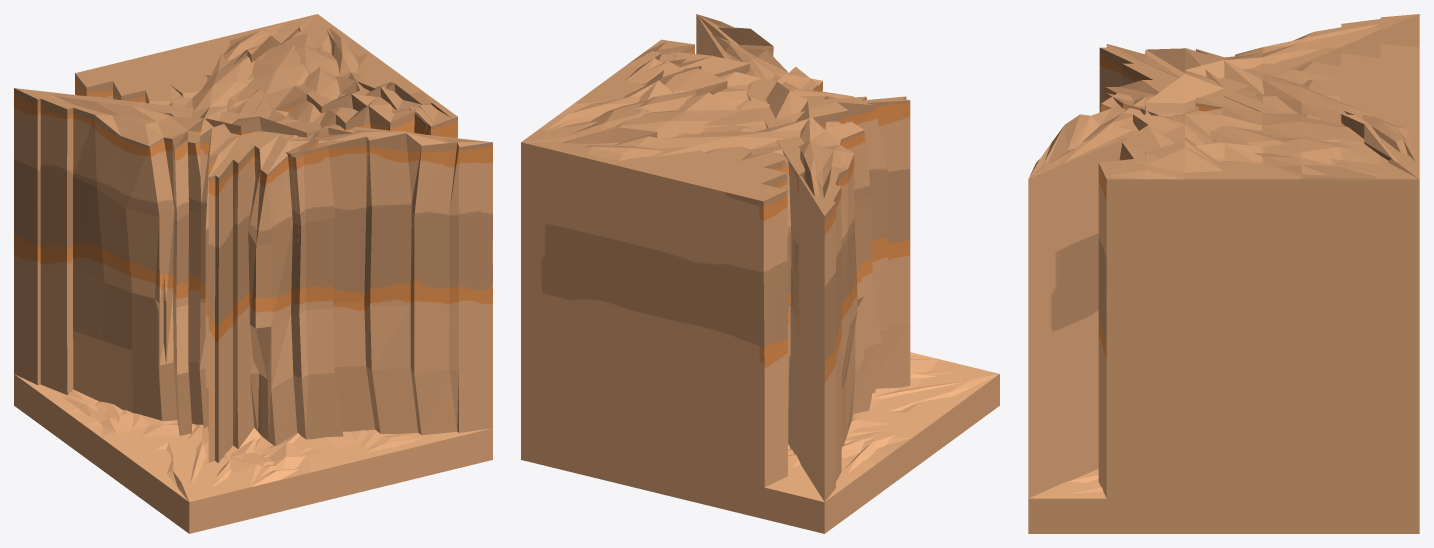
The model's file is cornerWithBlendShape.fbx.
3 views of the same model, side by side, from view 1: azimuth 30°, elevation 25°; view 2: azimuth 150°, elevation 25°; view 3: azimuth 270°, elevation 25° (orthographic). The views are drawn at different scales.
Visible parts, largest first — view 1: NØY, NØX, NVY, Corner, SØX, NVX, SVX, SØY; view 2: Corner, SVX, SØX, NØX, NØY, NVY, SØY, NVX; view 3: NVX, NØY, Corner, NVY, NØX, SØX, SVX, SØY.
Boxes of the visible parts, bbox=[...] form: NØY: bbox=[22, 99, 492, 500]; NØX: bbox=[14, 88, 484, 499]; NVY: bbox=[190, 14, 462, 500]; Corner: bbox=[14, 15, 492, 533]; SØX: bbox=[75, 15, 313, 501]; NVX: bbox=[190, 14, 489, 501]; SVX: bbox=[76, 14, 451, 117]; SØY: bbox=[43, 15, 316, 499]; Corner: bbox=[524, 40, 999, 533]; SVX: bbox=[521, 41, 824, 533]; SØX: bbox=[527, 99, 998, 486]; NØX: bbox=[722, 54, 996, 501]; NØY: bbox=[696, 14, 995, 497]; NVY: bbox=[523, 39, 991, 379]; SØY: bbox=[523, 127, 992, 484]; NVX: bbox=[522, 39, 994, 380]; NVX: bbox=[1028, 137, 1419, 533]; NØY: bbox=[1028, 47, 1339, 498]; Corner: bbox=[1029, 47, 1419, 498]; NVY: bbox=[1069, 47, 1417, 498]; NØX: bbox=[1106, 14, 1419, 161]; SØX: bbox=[1106, 44, 1419, 173]; SVX: bbox=[1030, 47, 1419, 498]; SØY: bbox=[1340, 48, 1419, 178].
Size of the model in its own units: 100 by 105 by 100.
1 material, 1 textured.
